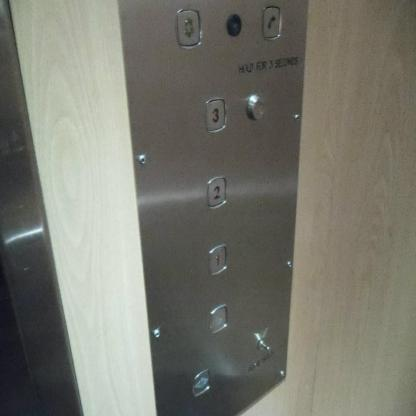1: (208, 244, 227, 274)
2: (206, 175, 227, 209)
3: (204, 96, 228, 132)
G: (208, 302, 228, 334)
alarm: (174, 7, 202, 48)
call: (260, 4, 281, 41)
keyhole: (246, 94, 265, 121)
open: (192, 367, 211, 397)
switch: (255, 335, 271, 356)
